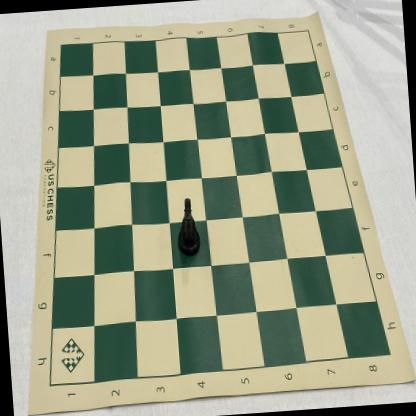knight: (174, 196, 202, 258)
